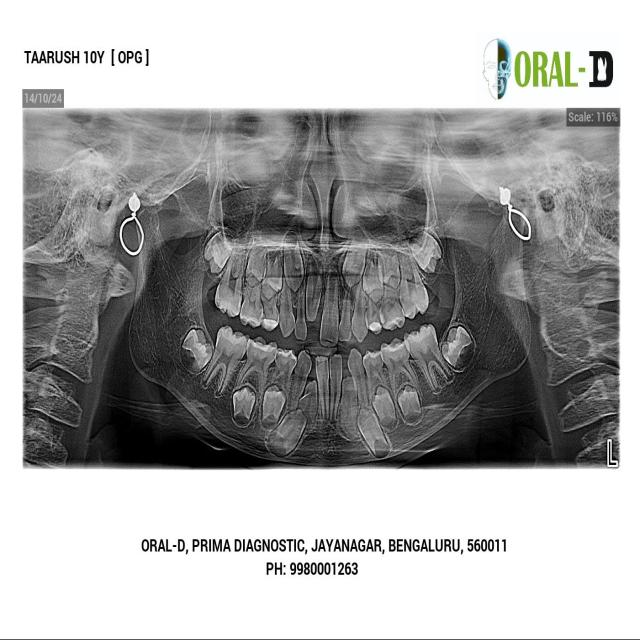Premolars: (363, 348, 400, 421)
